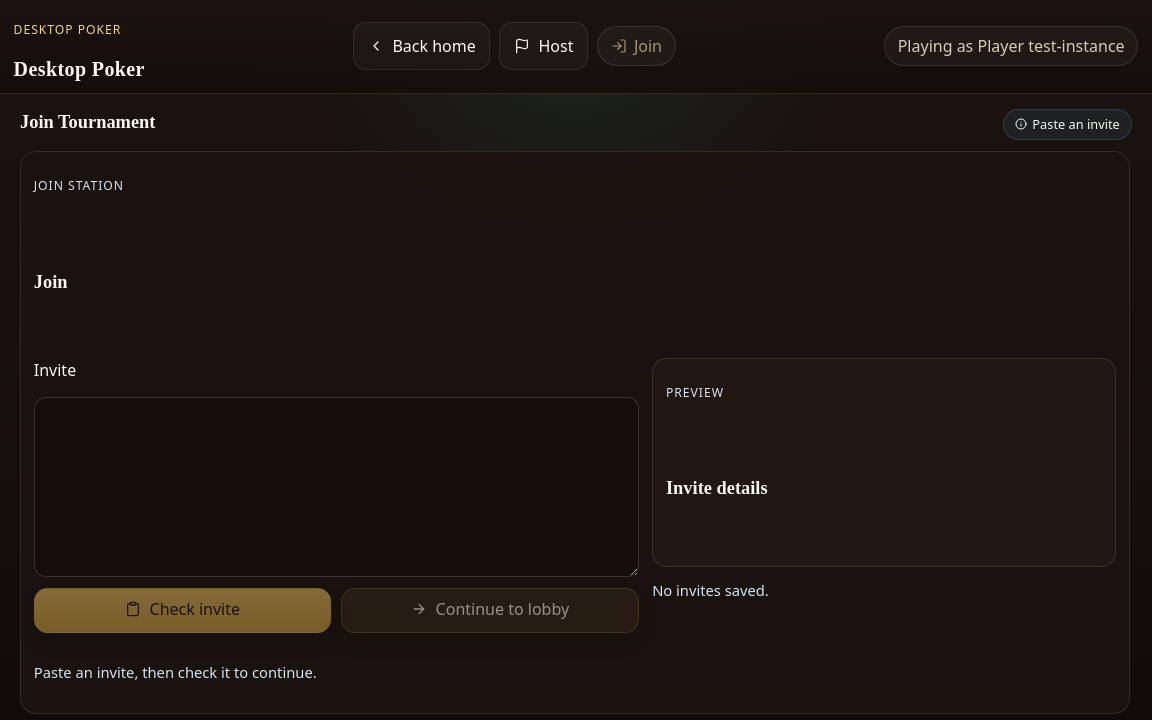
AppShell integration (client and routing) › join flow shows a human-readable error for an invalid payload instead of freezing
The width and height of the screenshot is (1152, 720).
Expected: the heading "Join Tournament" is shown, [20,109,155,140]
Type "pkr1_notbase64!!!" into the text box labelled "Invite" at x=336, y=487, box [34,397,639,577]
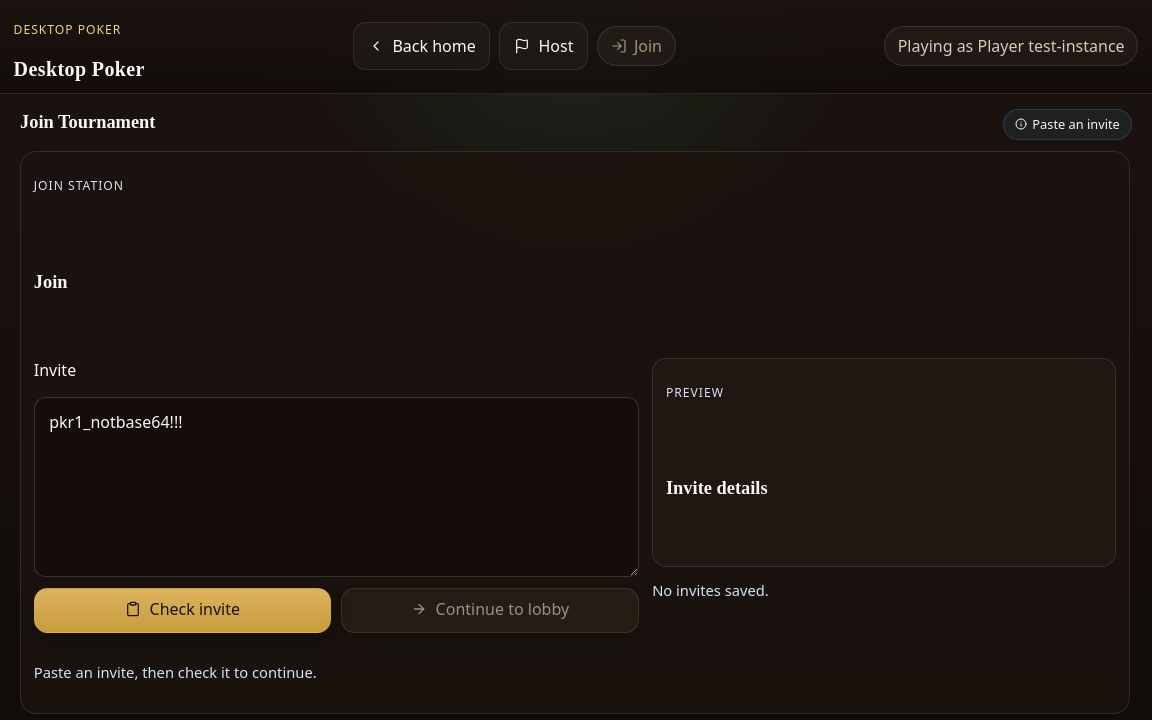
Click the button "Check invite" at x=182, y=610, box [34,588,331,633]
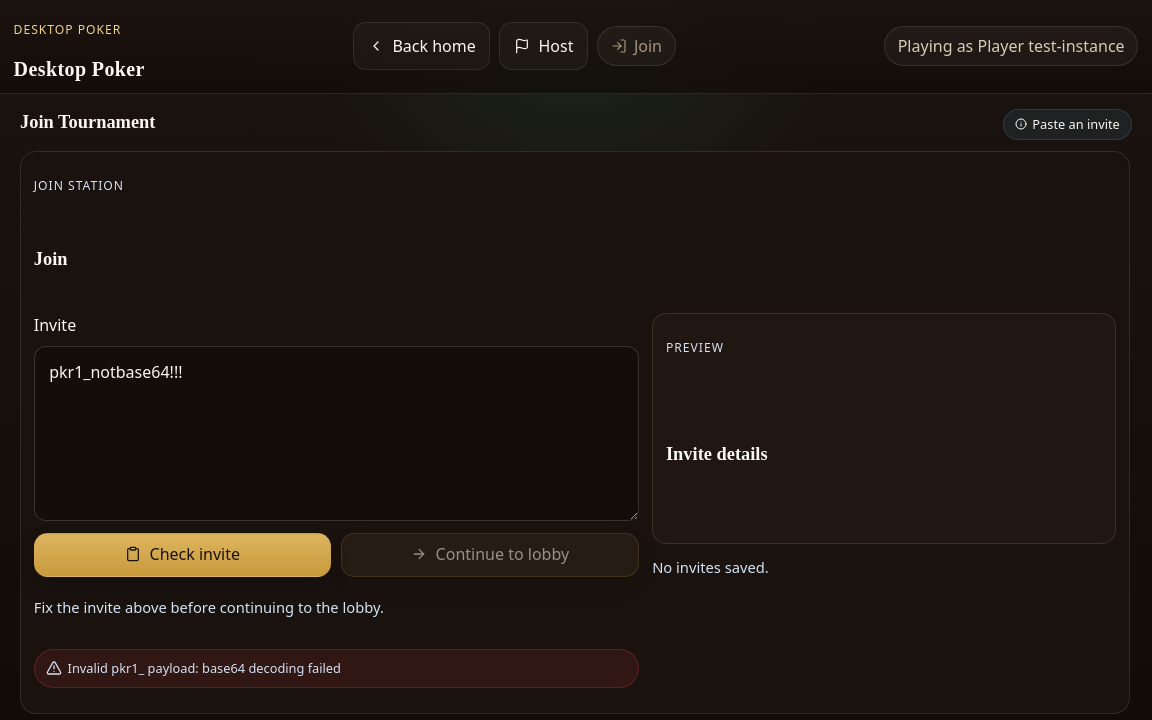
Expected: the button "Continue to lobby" is disabled, [341,533,639,577]
Expected: the text "Invalid pkr1_ payload: base64 decoding failed" is shown, [34,649,639,688]
